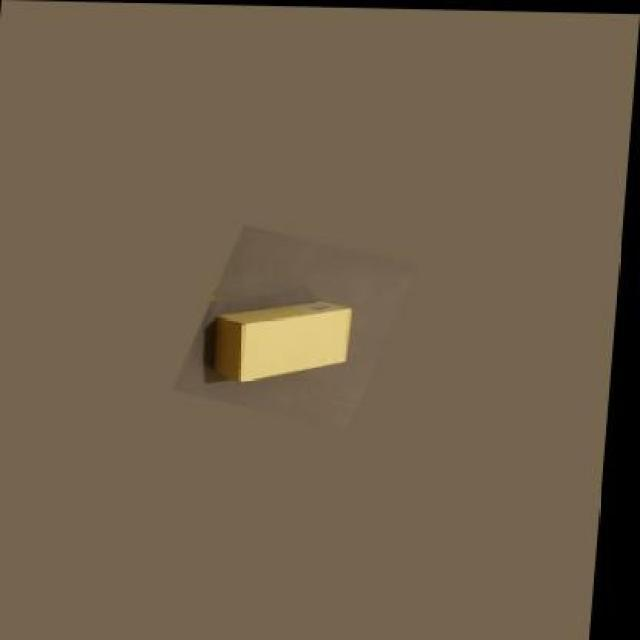box: (218, 296, 354, 379)
